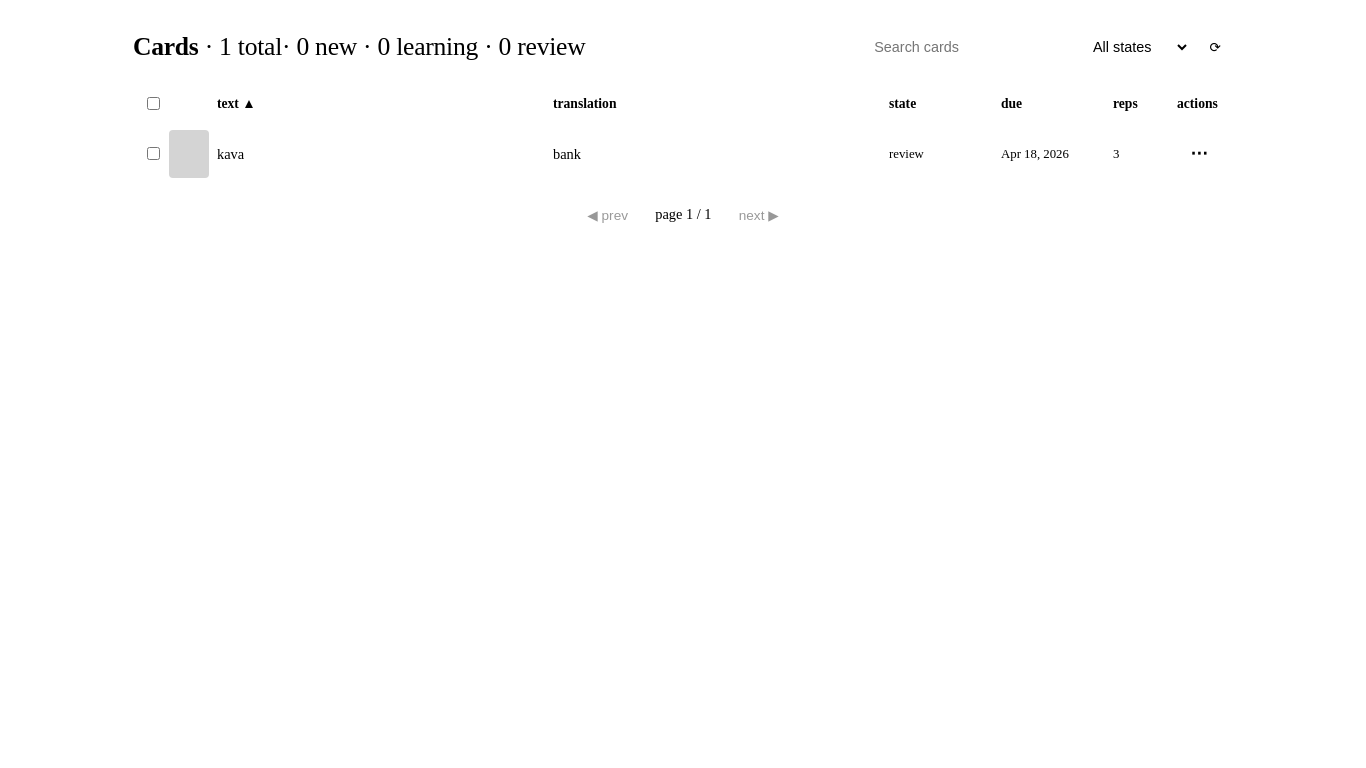
Test: cards/+page.svelte › shows a non-Error resetSRSItem rejection as text
Expected: the text "kava" is shown, left=217, top=146, right=244, bottom=162
Click the button "⋯". click: (1199, 154)
box: left=1177, top=140, right=1221, bottom=168
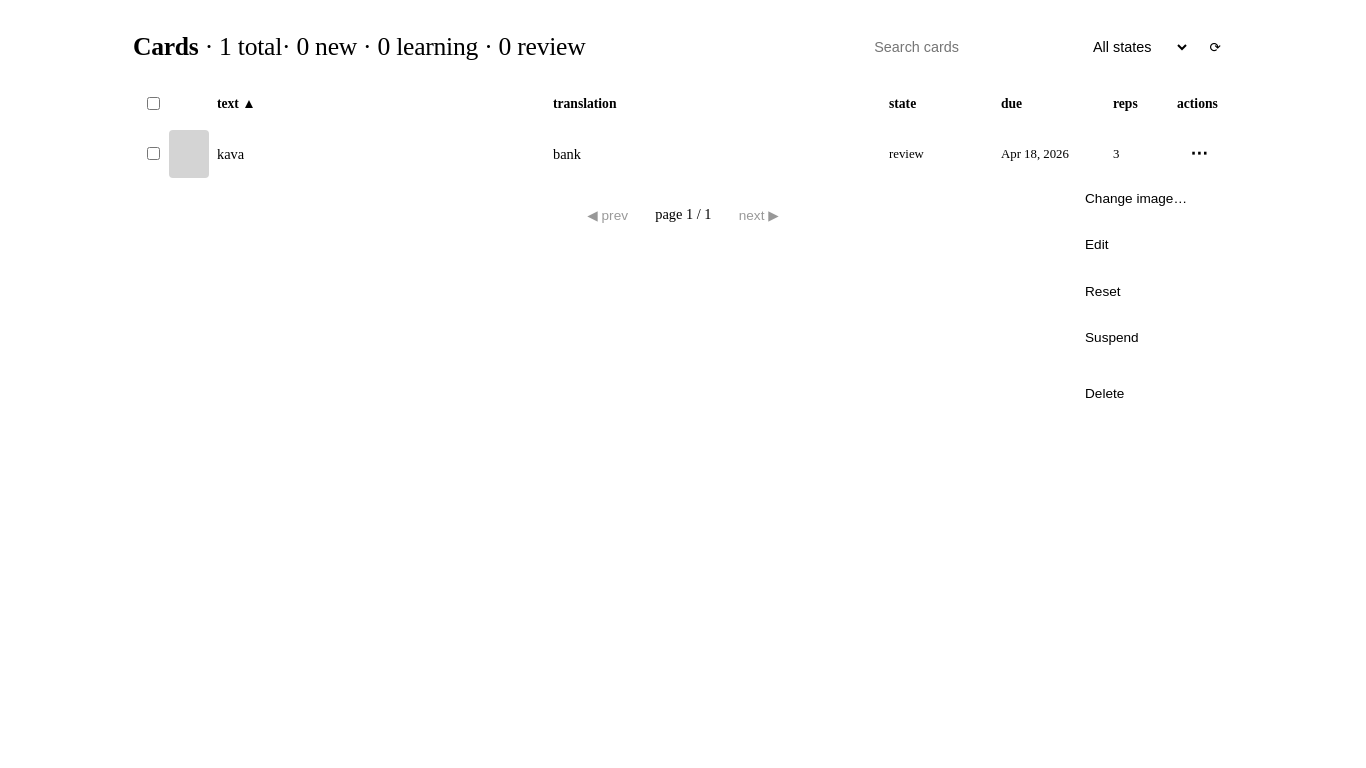
Click the menu item "Reset". click: (1145, 291)
box: left=1073, top=269, right=1217, bottom=313
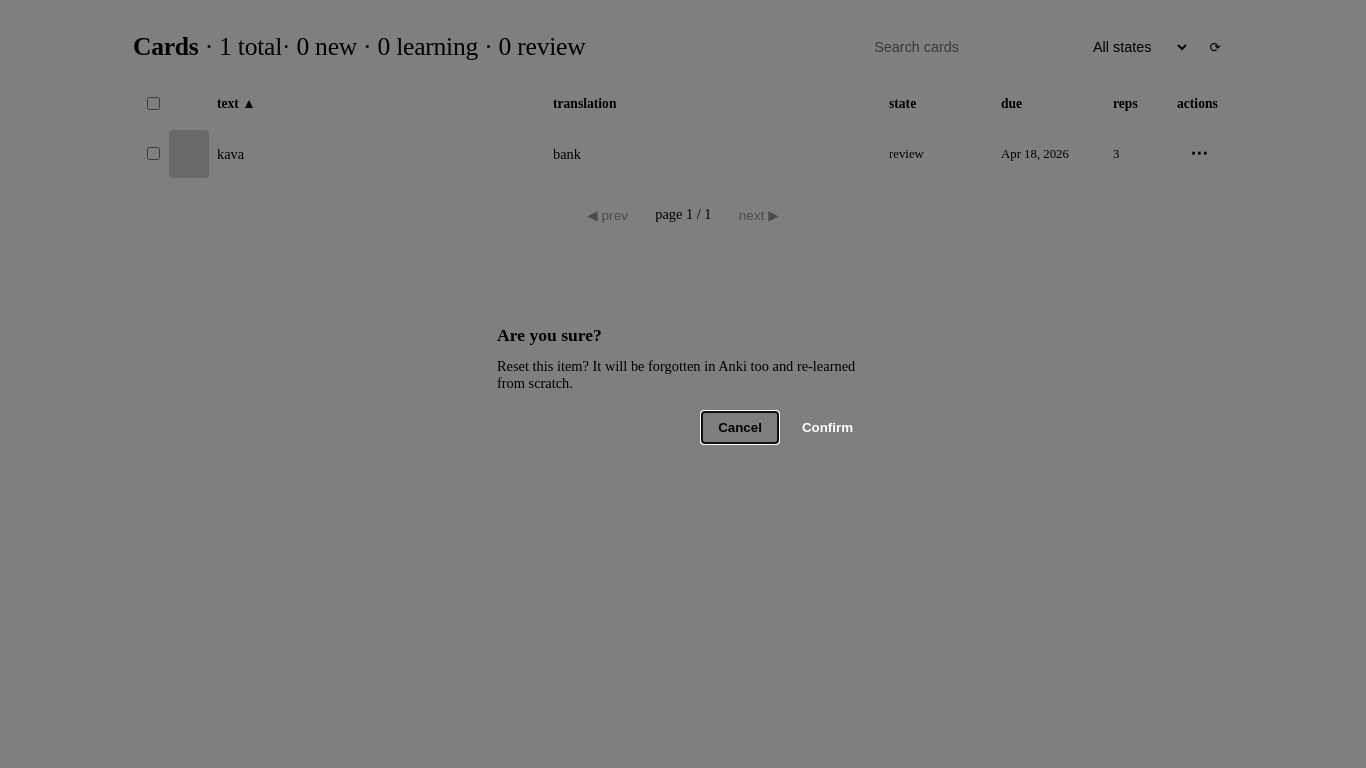
Click the button "Confirm". click: (827, 428)
box: left=786, top=412, right=869, bottom=443
Wait 100 ms
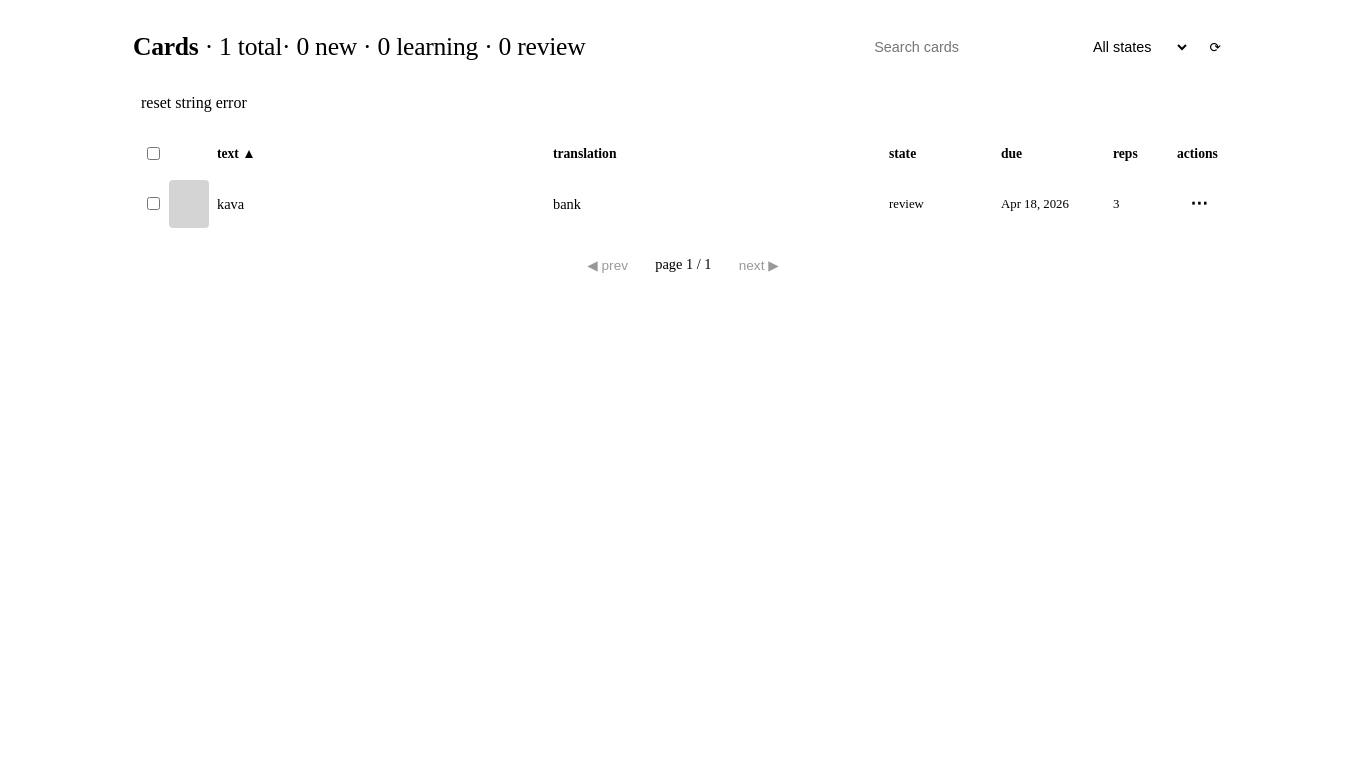
Expected: the text "reset string error" is shown, left=141, top=94, right=247, bottom=111
